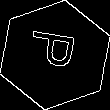P_E: (26, 33, 84, 77)
